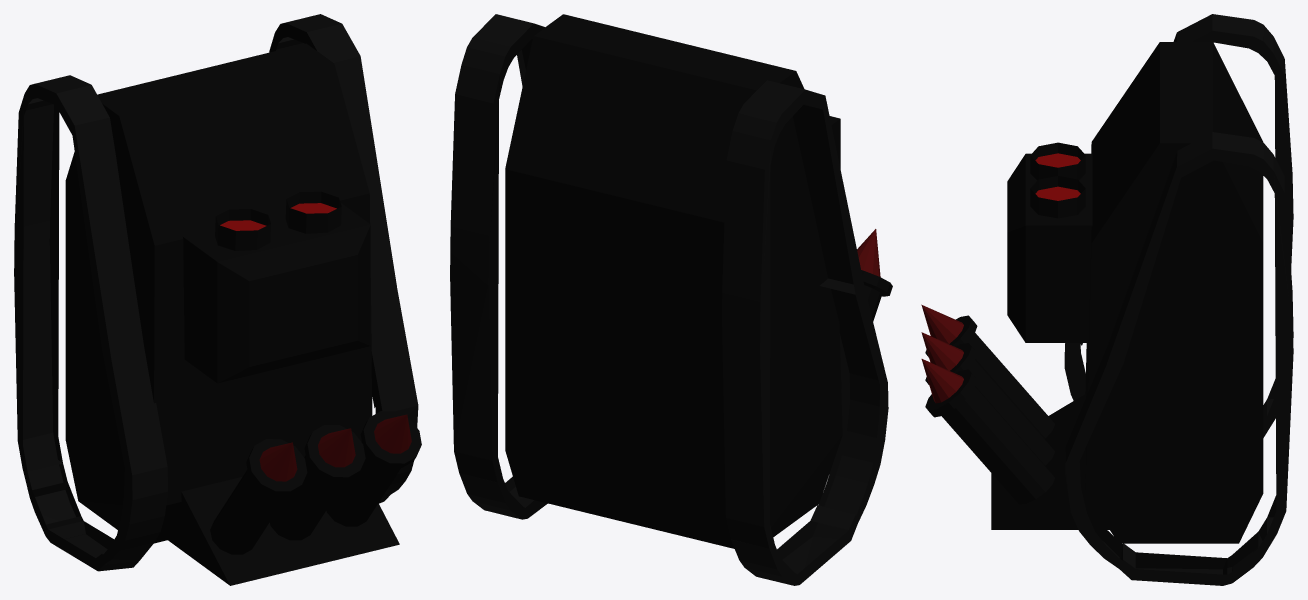
File: TanqueINMOVIL.obj
The picture shows the model from 3 angles, left to right: view 1: azimuth 30°, elevation 25°; view 2: azimuth 150°, elevation 25°; view 3: azimuth 270°, elevation 25°; orthographic projection. The views are drawn at different scales.
Visible parts, largest first — view 1: Circle.054; view 2: Circle.054; view 3: Circle.054.
Part boxes in pixels (<box>): Circle.054: <box>14,14,421,585</box>; Circle.054: <box>450,14,892,585</box>; Circle.054: <box>921,14,1293,585</box>.
Bounding box in the file's own units: 0.7564 × 1.14 × 0.8822.
